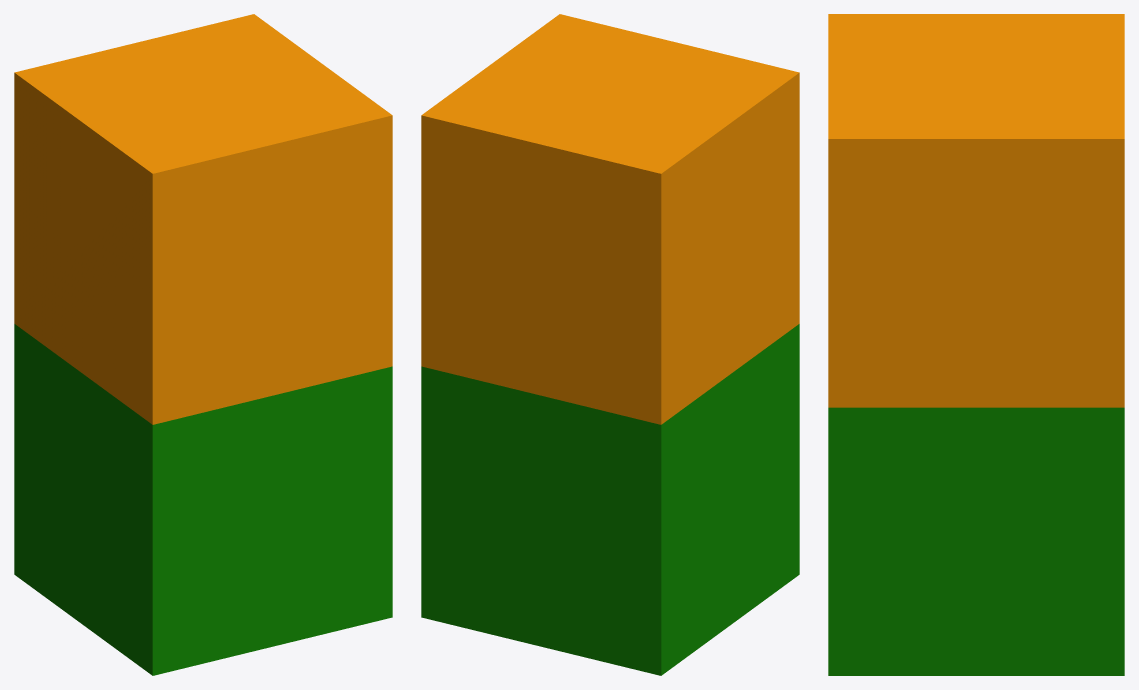
File: (8) Orange FlowerCup (Stage 2).obj
The picture shows the model from 3 angles, left to right: view 1: azimuth 30°, elevation 25°; view 2: azimuth 150°, elevation 25°; view 3: azimuth 270°, elevation 25°; orthographic projection. The views are drawn at different scales.
Size of the model in its own units: 0.1 by 0.2 by 0.1.
Materials: 1 (1 with a texture image).
